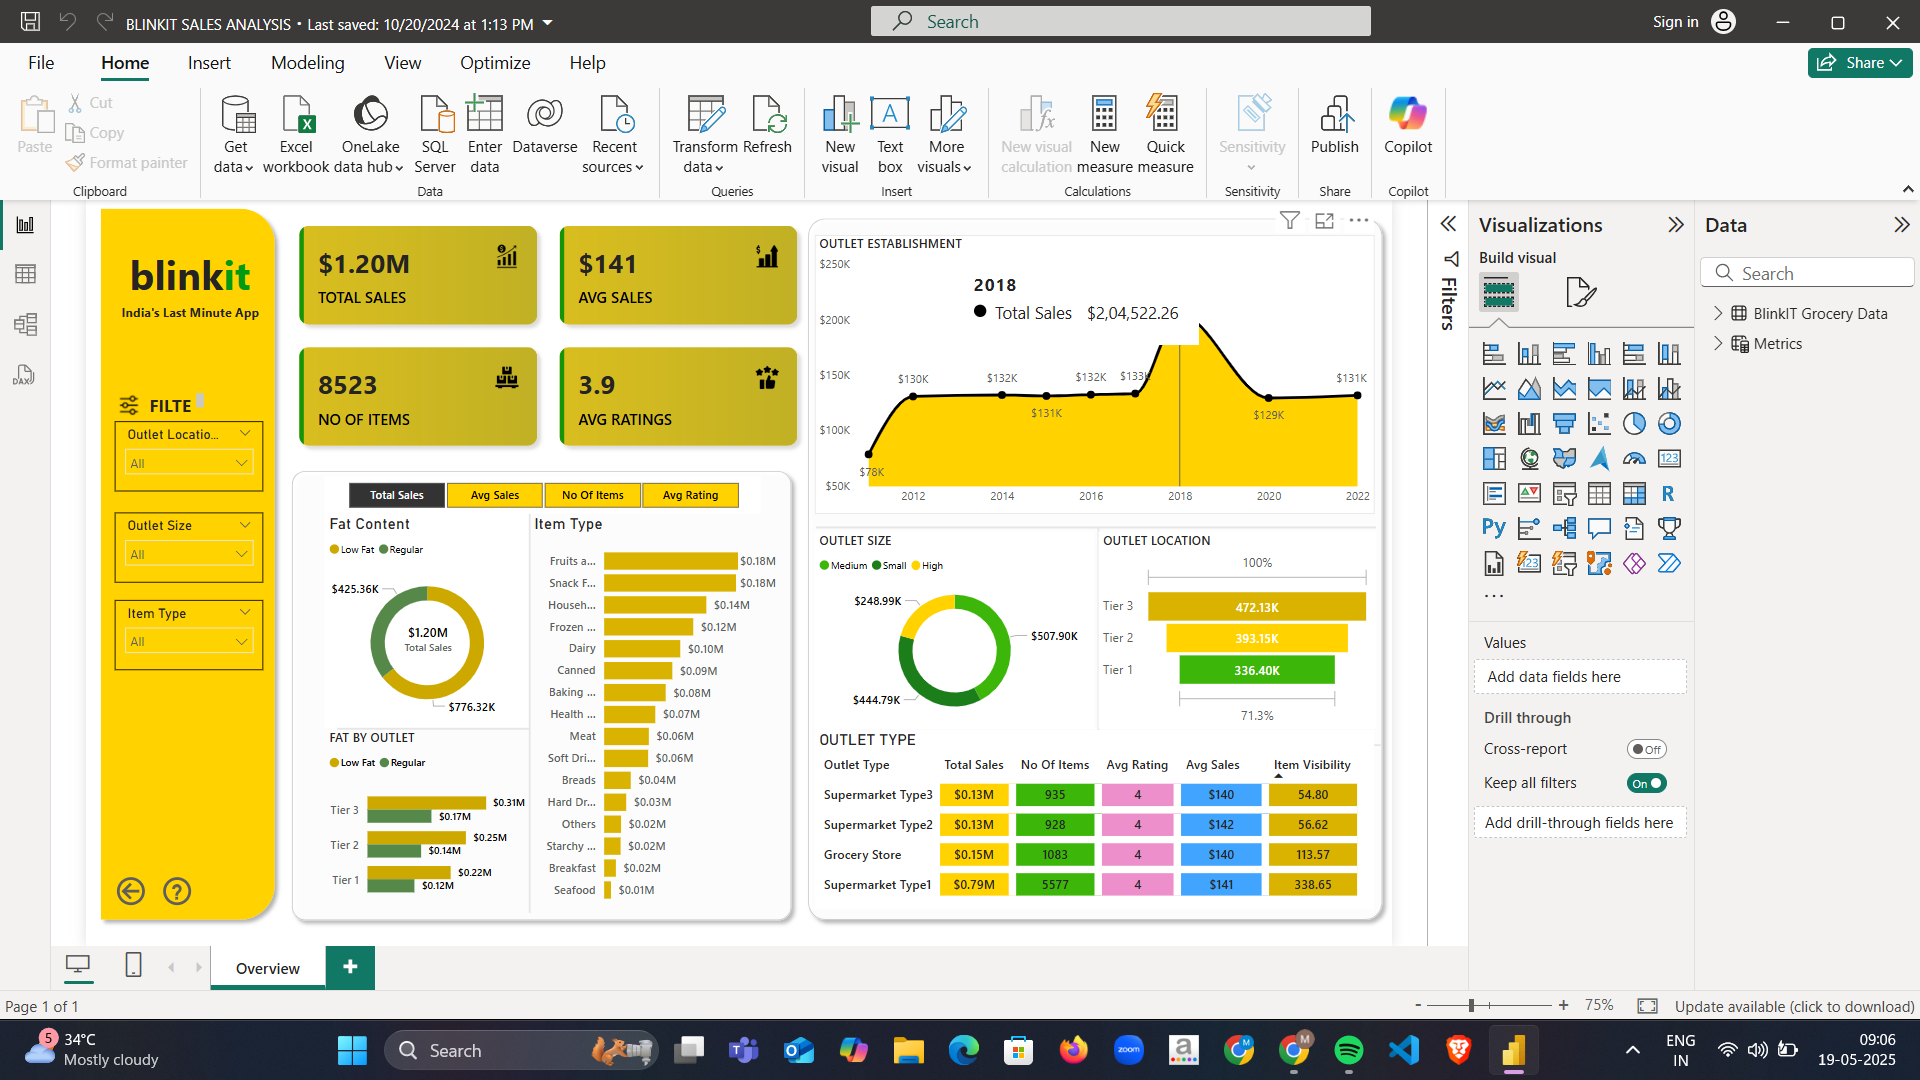

The page's visual inventory and layout, read from the dashboard file:
{"tool":"powerbi","page":{"name":"Overview","canvas":[1400,800],"ordinal":0},"visuals":[{"type":"shape","box":[6.7,0,205,781.7],"z":0},{"type":"textbox","box":[33.5,45.6,155.5,80.4],"z":1000},{"type":"textbox","box":[26.8,105.9,170.2,40.2],"z":2000},{"type":"cardVisual","fields":{"Data":["BlinkIT Grocery Data.Total Sales","BlinkIT Grocery Data.Avg Sales","BlinkIT Grocery Data.No Of Items","BlinkIT Grocery Data.Avg Rating"]},"box":[211.8,10.7,569.7,270.8],"z":3000},{"type":"shape","box":[211.8,281.5,553.6,500],"z":4000},{"type":"donutChart","title":"Fat Content","fields":{"Y":["BlinkIT Grocery Data.Total Sales"],"Category":["BlinkIT Grocery Data.Item Fat Content"]},"box":[256,336.5,219.8,230.6],"z":5000},{"type":"slicer","title":"FAT CONTENT","fields":{"Values":["Metrics.Metrics"]},"box":[256,296.2,467.8,40.2],"z":6000},{"type":"cardVisual","fields":{"Data":["BlinkIT Grocery Data.Total Sales"]},"box":[320,436.7,93.3,66.7],"z":7000},{"type":"clusteredBarChart","title":"FAT BY OUTLET","fields":{"Y":["BlinkIT Grocery Data.Total Sales"],"Category":["BlinkIT Grocery Data.Outlet Location Type"],"Series":["BlinkIT Grocery Data.Item Fat Content"]},"box":[256.7,566.7,220,196.7],"z":8000},{"type":"shape","box":[269.4,549.6,206.4,34.9],"z":9000},{"type":"shape","box":[463.8,336.5,24.1,427.6],"z":10000},{"type":"barChart","title":"Item Type","fields":{"Y":["BlinkIT Grocery Data.Total Sales"],"Category":["BlinkIT Grocery Data.Item Type"]},"box":[475.9,336.5,269.4,427.6],"z":11000},{"type":"shape","box":[765.4,10.7,634.1,770.8],"z":12000},{"type":"lineChart","title":"OUTLET ESTABLISHMENT","fields":{"Y":["BlinkIT Grocery Data.Total Sales"],"Category":["BlinkIT Grocery Data.Outlet Establishment Year"]},"box":[781.5,37.5,600.5,298.9],"z":13000},{"type":"shape","box":[782.8,336.5,600.5,29.5],"z":14000},{"type":"donutChart","title":"OUTLET SIZE","fields":{"Category":["BlinkIT Grocery Data.Outlet Size"],"Y":["BlinkIT Grocery Data.Total Sales"]},"box":[781.5,355.2,300.3,211.8],"z":15000},{"type":"shape","box":[1071.1,351.2,29.5,233.2],"z":16000},{"type":"shape","box":[782.8,568.4,303,33.5],"z":17000},{"type":"funnel","title":"OUTLET LOCATION","fields":{"Category":["BlinkIT Grocery Data.Outlet Location Type"],"Y":["Sum(BlinkIT Grocery Data.Sales)"]},"box":[1085.5,355.5,297.3,211.8],"z":18000},{"type":"shape","box":[1085.8,568.3,302.5,32.5],"z":19000},{"type":"pivotTable","title":"OUTLET TYPE","fields":{"Rows":["BlinkIT Grocery Data.Outlet Type"],"Values":["BlinkIT Grocery Data.Total Sales","BlinkIT Grocery Data.No Of Items","BlinkIT Grocery Data.Avg Rating","BlinkIT Grocery Data.Avg Sales","Sum(BlinkIT Grocery Data.Item Visibility)"]},"box":[781.4,568.6,600,192.9],"z":20000},{"type":"slicer","fields":{"Values":["BlinkIT Grocery Data.Outlet Location Type"]},"box":[31.4,237.5,159.5,75.1],"z":21000},{"type":"slicer","fields":{"Values":["BlinkIT Grocery Data.Outlet Size"]},"box":[31.4,335.4,159.5,75.1],"z":21001},{"type":"textbox","box":[63.5,202.7,68.4,34.9],"z":21002},{"type":"slicer","fields":{"Values":["BlinkIT Grocery Data.Item Type"]},"box":[31.4,429.2,159.5,75.1],"z":21003},{"type":"image","box":[27.3,197.3,38.9,45.6],"z":21004},{"type":"actionButton","box":[28.2,721.2,49.6,40.2],"z":21005},{"type":"actionButton","box":[77.7,721.2,50.9,40.2],"z":21007}]}

Visuals, with their boxes on the page's 1400x800 design canvas (x1, y1, x2, y2). These are canvas units, not pixel positions in the 1920x1080 screenshot, which may show the page scaled, cropped or inside an application window:
shape: bbox=(7, 0, 212, 782)
textbox: bbox=(34, 46, 189, 126)
textbox: bbox=(27, 106, 197, 146)
cardVisual - BlinkIT Grocery Data.Total Sales x BlinkIT Grocery Data.Avg Sales: bbox=(212, 11, 782, 282)
shape: bbox=(212, 282, 765, 782)
"Fat Content" donutChart: bbox=(256, 336, 476, 567)
"FAT CONTENT" slicer: bbox=(256, 296, 724, 336)
cardVisual - BlinkIT Grocery Data.Total Sales: bbox=(320, 437, 413, 503)
"FAT BY OUTLET" clusteredBarChart: bbox=(257, 567, 477, 763)
shape: bbox=(269, 550, 476, 584)
shape: bbox=(464, 336, 488, 764)
"Item Type" barChart: bbox=(476, 336, 745, 764)
shape: bbox=(765, 11, 1400, 782)
"OUTLET ESTABLISHMENT" lineChart: bbox=(782, 38, 1382, 336)
shape: bbox=(783, 336, 1383, 366)
"OUTLET SIZE" donutChart: bbox=(782, 355, 1082, 567)
shape: bbox=(1071, 351, 1101, 584)
shape: bbox=(783, 568, 1086, 602)
"OUTLET LOCATION" funnel: bbox=(1086, 356, 1383, 567)
shape: bbox=(1086, 568, 1388, 601)
"OUTLET TYPE" pivotTable: bbox=(781, 569, 1381, 762)
slicer - BlinkIT Grocery Data.Outlet Location Type: bbox=(31, 238, 191, 313)
slicer - BlinkIT Grocery Data.Outlet Size: bbox=(31, 335, 191, 410)
textbox: bbox=(64, 203, 132, 238)
slicer - BlinkIT Grocery Data.Item Type: bbox=(31, 429, 191, 504)
image: bbox=(27, 197, 66, 243)
actionButton: bbox=(28, 721, 78, 761)
actionButton: bbox=(78, 721, 129, 761)
